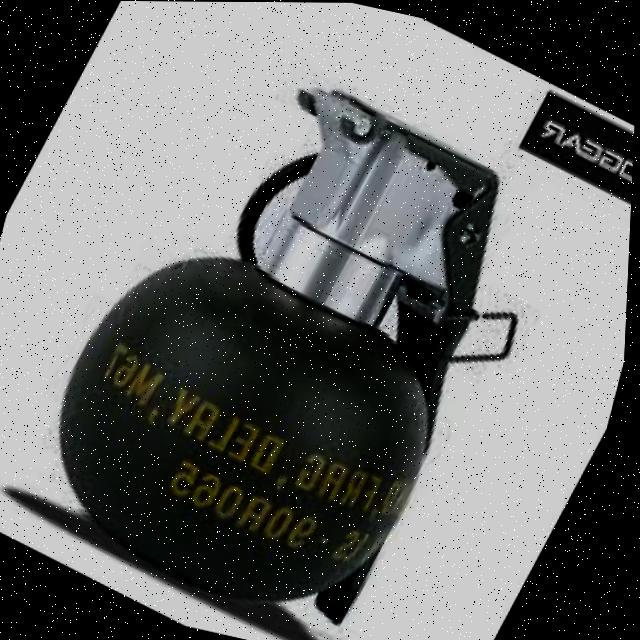grenade: (0, 0, 621, 640)
